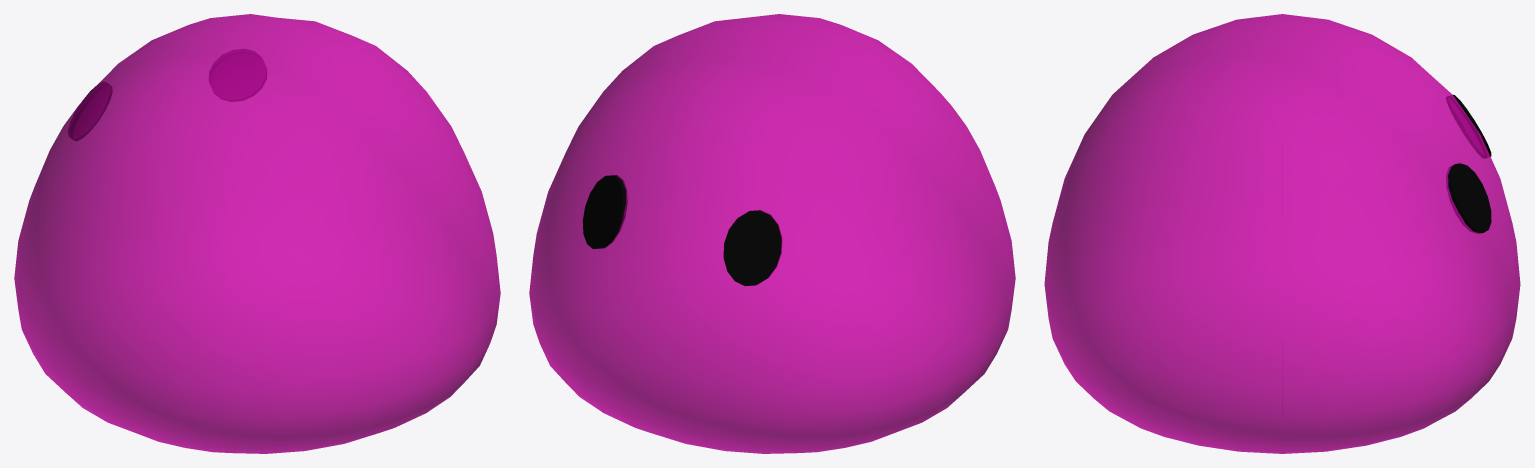
Rendered from SlimeP.fbx.
3 views of the same model, side by side, from view 1: azimuth 30°, elevation 25°; view 2: azimuth 150°, elevation 25°; view 3: azimuth 270°, elevation 25° (orthographic).
Visible parts, largest first — view 1: Cube.006; view 2: Cube.006; view 3: Cube.006.
Part boxes in pixels (<box>): Cube.006: <box>14,14,500,453</box>; Cube.006: <box>529,14,1015,453</box>; Cube.006: <box>1044,14,1520,453</box>.
Size of the model in its own units: 159 by 133 by 159.
